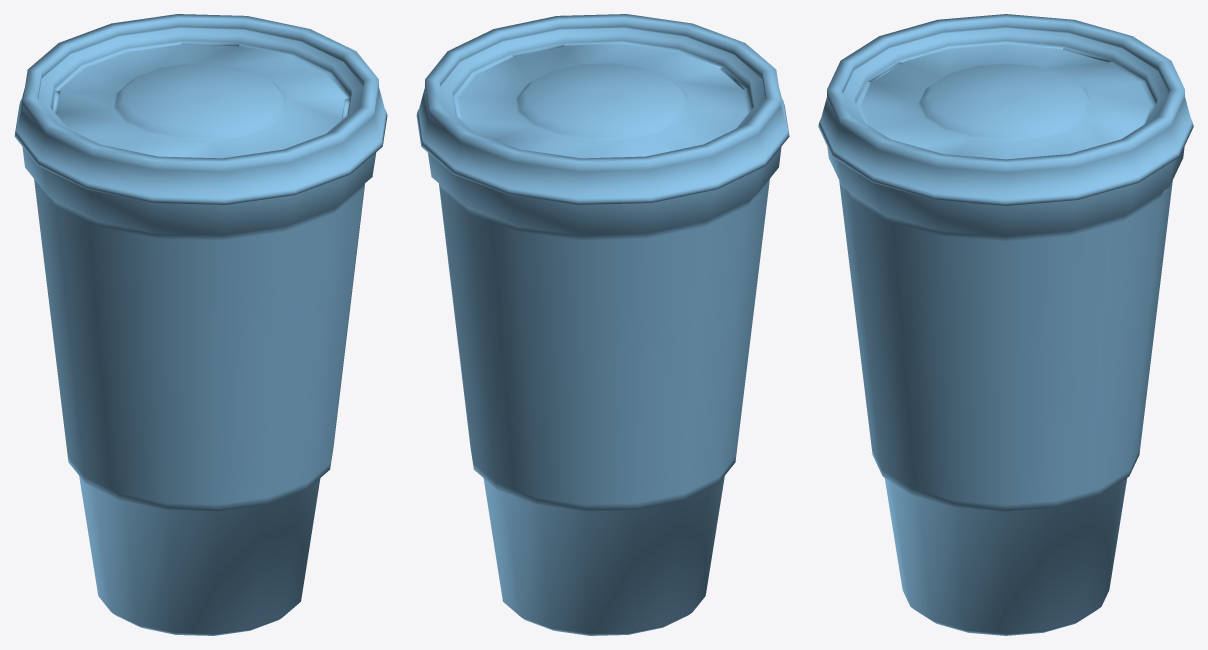
The model's file is Mesh_SodaCup.fbx.
3 renders of one model, left to right at view 1: azimuth 30°, elevation 25°; view 2: azimuth 150°, elevation 25°; view 3: azimuth 270°, elevation 25°, orthographic.
Visible parts, largest first — view 1: SodaCup_Large, SodaCup Lid; view 2: SodaCup_Large, SodaCup Lid; view 3: SodaCup_Large, SodaCup Lid.
Boxes of the visible parts, x1,y1,x2,y2 form: SodaCup_Large: [22, 147, 376, 635]; SodaCup Lid: [14, 14, 387, 204]; SodaCup_Large: [427, 147, 781, 635]; SodaCup Lid: [416, 14, 789, 204]; SodaCup_Large: [827, 146, 1184, 635]; SodaCup Lid: [818, 14, 1193, 205].
Size of the model in its own units: 16.37 by 24.27 by 16.37.
